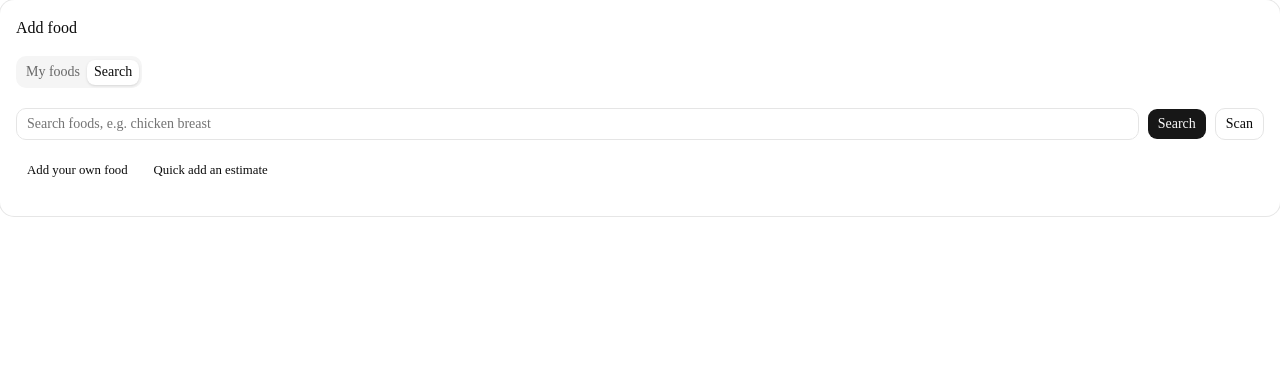
Test: AddFood — when search finds nothing › offers only the two paths that need no assistant when it is off
In the field labelled "Search foods": (577, 124) [16,108,1139,140], type "Maqlouba"
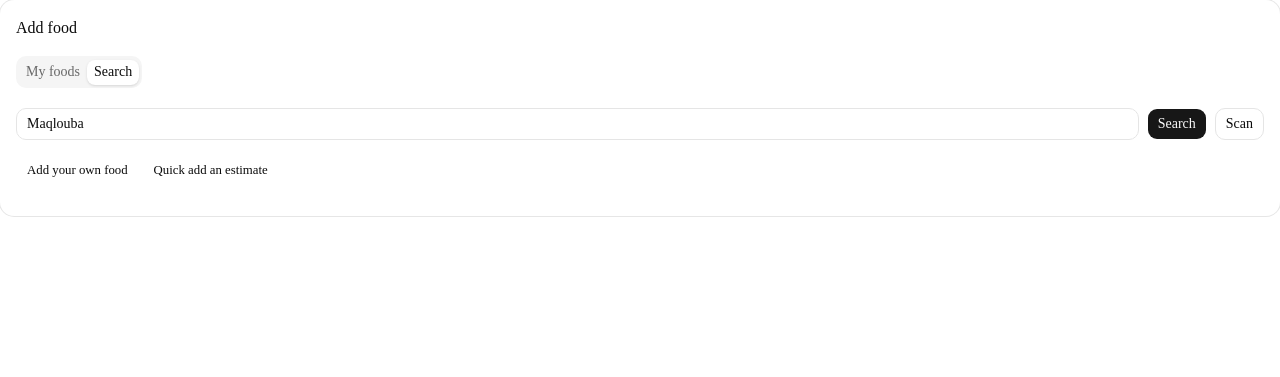
Click the button "Search": (1177, 124) [1147,108,1207,140]
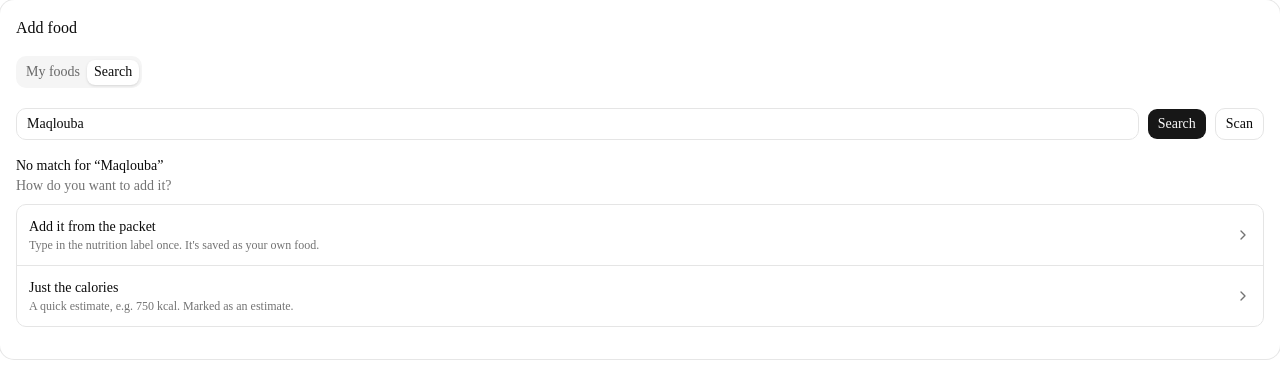
Result: the text "No match for “Maqlouba”" is shown at [16,158,163,173]
Result: the button "Add it from the packet" is shown at [17,205,1263,265]
Result: the button "Just the calories" is shown at [17,266,1263,326]
